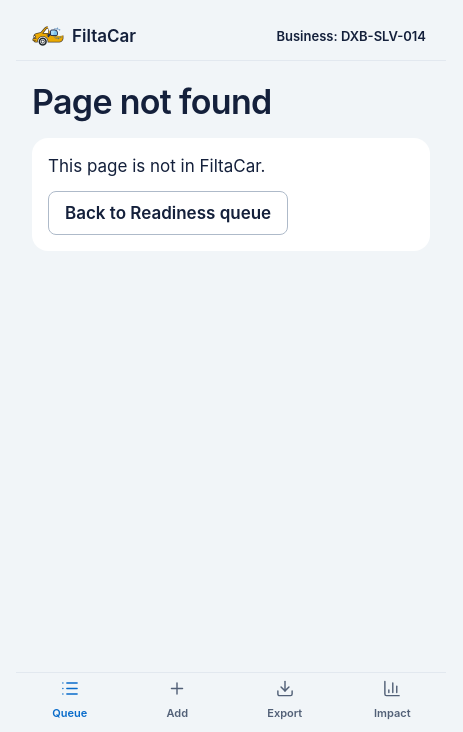
it: provides a way back from an unknown page
Check: the heading "Page not found" is shown, box [32,81,272,122]
Click the link "Back to Readiness queue": {"x": 168, "y": 213} [48,191,288,235]
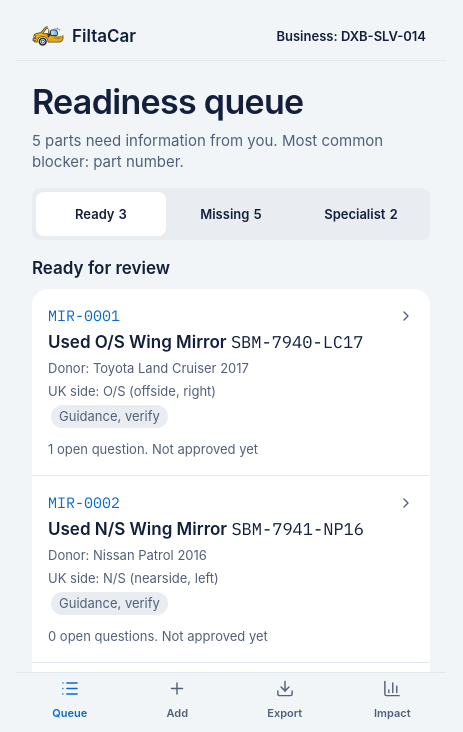
Check: the tab "Ready 3" is shown, box [36,192,166,236]
